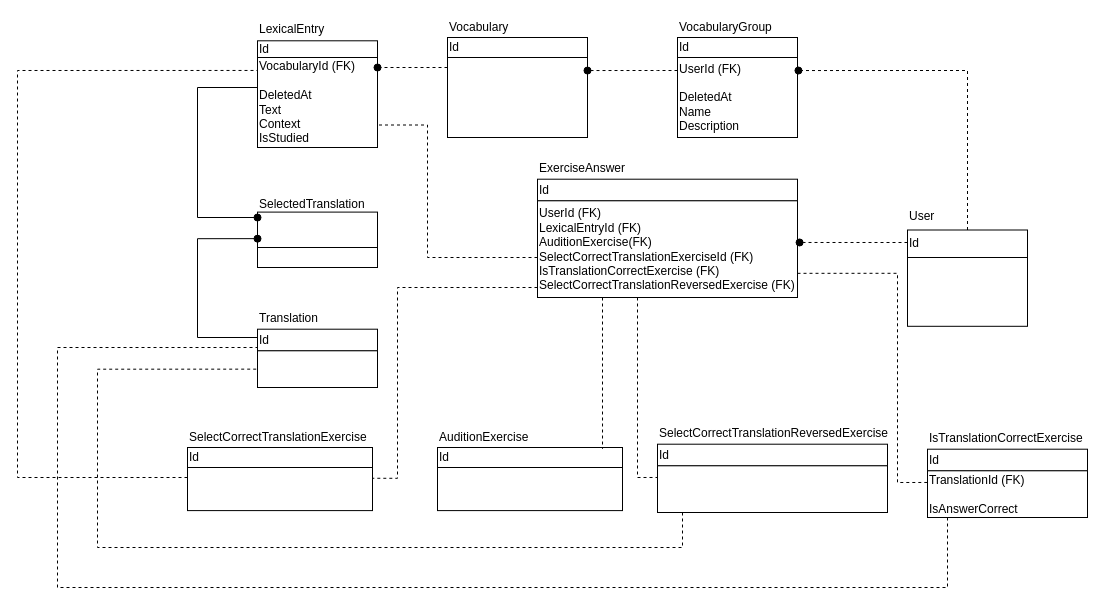
The diagram is 1105 pixels wide and 606 high, and some of its shapes have lost their labels. Here are the shapes that lost their labels. From the top down, the centre of each, then its label:
(517,97): VocabularyGroupId (FK) DeletedAt Name Description
(317,229): LexicalEntryId (FK) TranslationId (FK)
(967,291): DeletedAt Login Password Email
(317,369): Name
(279,488): ChosenLexicalEntry (FK) IsAnswerCorrect
(529,488): EnteredLexicalEntry CorrectnessPercent
(772,488): ChosenTranslationId (FK) IsAnswerCorrect
